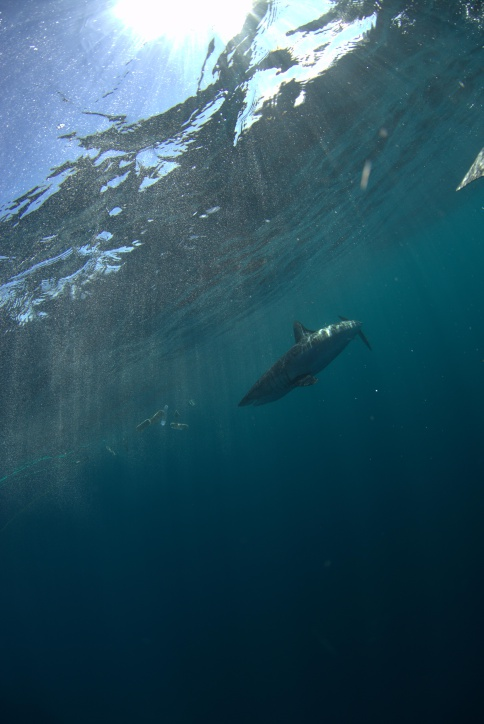Mako: (231, 302, 401, 418)
